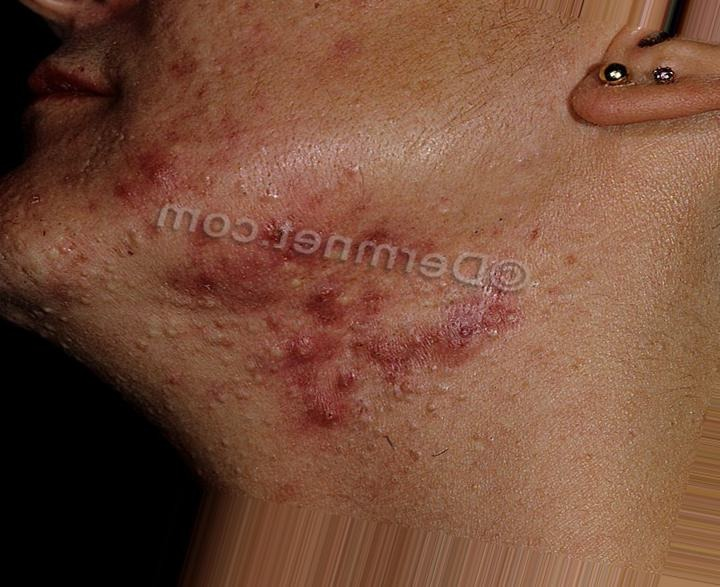Acne: (310, 268, 368, 337), (277, 322, 318, 370)
